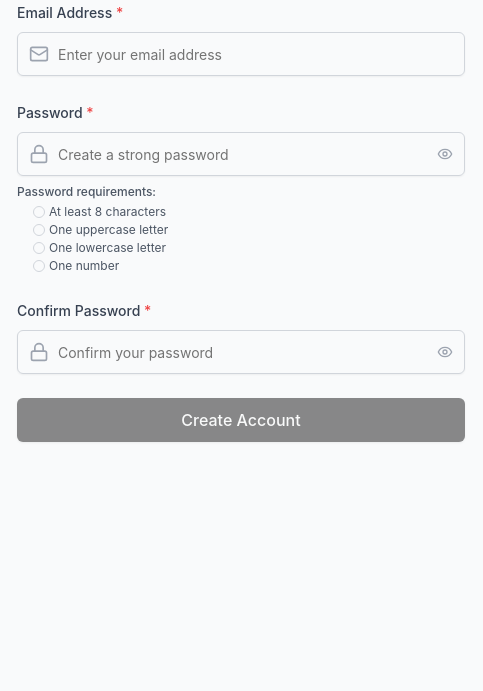
it: RegisterForm › Validation errors › should not show redundant "please check your information" message for validation errors that already contain guidance
This screenshot has width=483, height=691.
Fill form
Type "alice@example.com" into the field labelled "Email Address *". click: (241, 54)
box: top-left (17, 32), bottom-right (465, 76)
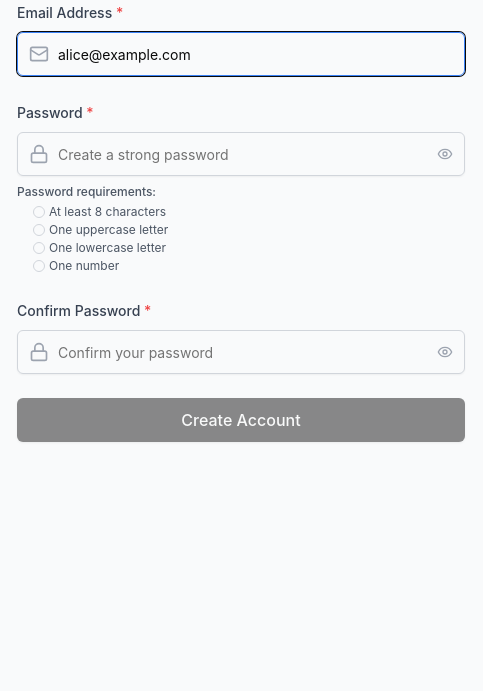
Type "ValidPass123" into the password field labelled "Password *". click: (241, 154)
box: top-left (17, 132), bottom-right (465, 176)
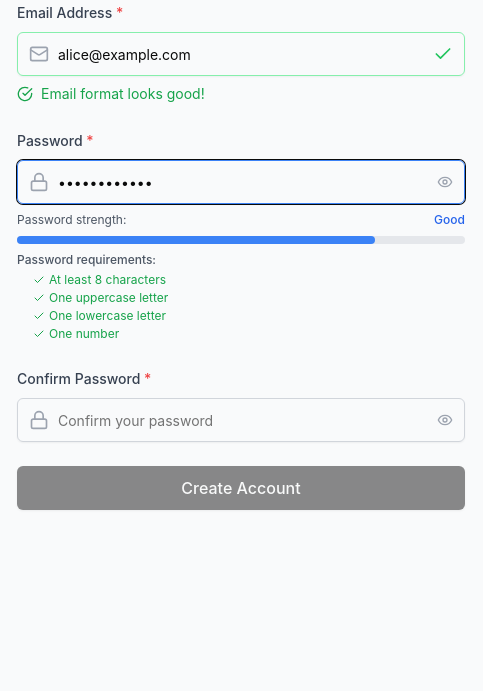
Type "ValidPass123" into the password field labelled "Confirm Password *". click: (241, 420)
box: top-left (17, 398), bottom-right (465, 442)
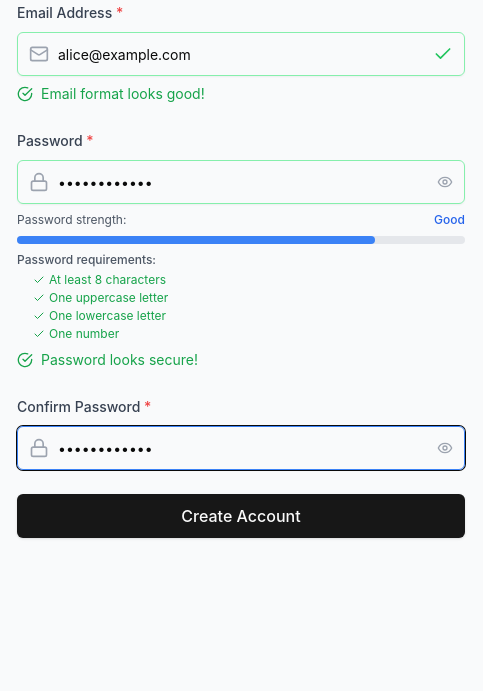
Submit form - should fail with validation error
Click the button "Create Account". click: (241, 516)
box: top-left (17, 494), bottom-right (465, 538)
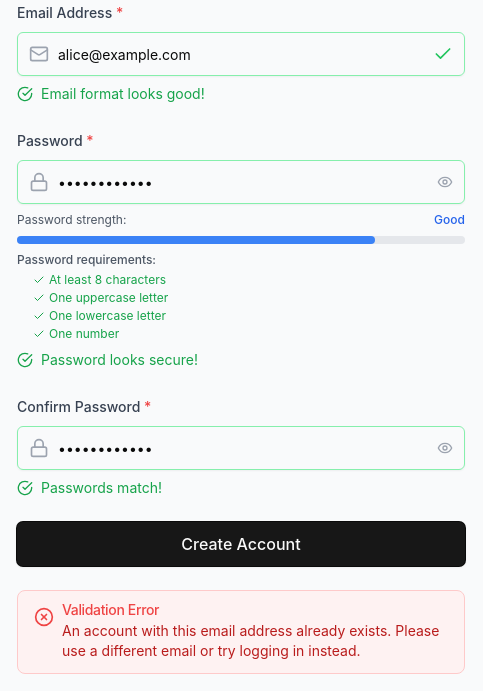
Expected: the heading "Validation Error" is shown, top-left (62, 601), bottom-right (159, 618)
Expected: the text "An account with this email address already exists. Please use a different email or try logging in instead." is shown, top-left (62, 622), bottom-right (439, 659)
